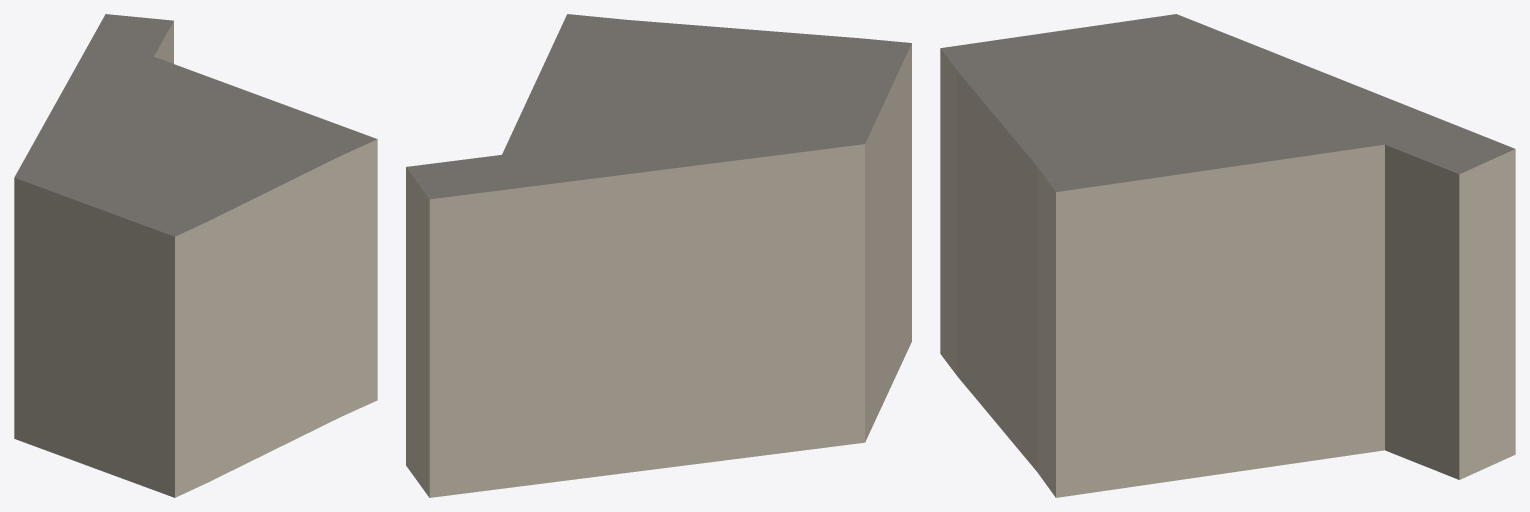
3 views of the same model, side by side, from view 1: azimuth 30°, elevation 25°; view 2: azimuth 150°, elevation 25°; view 3: azimuth 270°, elevation 25° (orthographic). The views are drawn at different scales.
Parts seen in each view (by area): view 1: HP-w1197245615; view 2: HP-w1197245615; view 3: HP-w1197245615.
Part boxes in pixels (x1=…): HP-w1197245615: x1=14, y1=14, x2=377, y2=497; HP-w1197245615: x1=406, y1=14, x2=911, y2=497; HP-w1197245615: x1=940, y1=14, x2=1515, y2=497.
Bounding box in the file's own units: 22.51 × 18 × 30.69.
